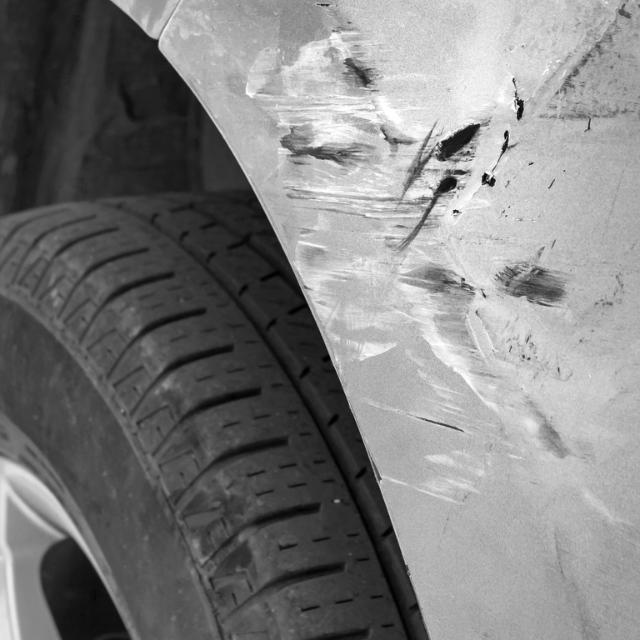Fender: (185, 0, 640, 501)
